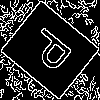P: (25, 25, 82, 81)
